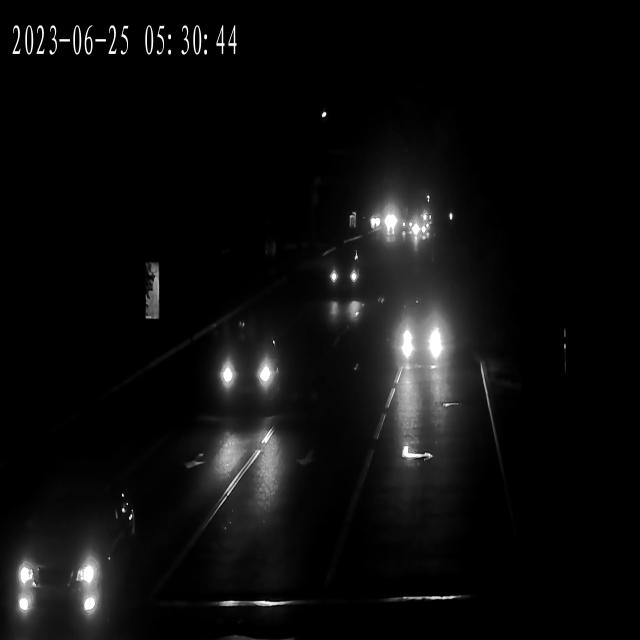Car: (12, 479, 132, 630), (219, 314, 287, 405), (394, 283, 451, 366), (326, 246, 362, 301), (382, 214, 402, 240), (411, 222, 430, 238), (398, 215, 412, 235), (369, 211, 381, 227)
